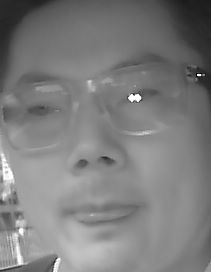glass: (95, 65, 186, 134), (2, 82, 74, 149)
mouth: (58, 193, 141, 241)
